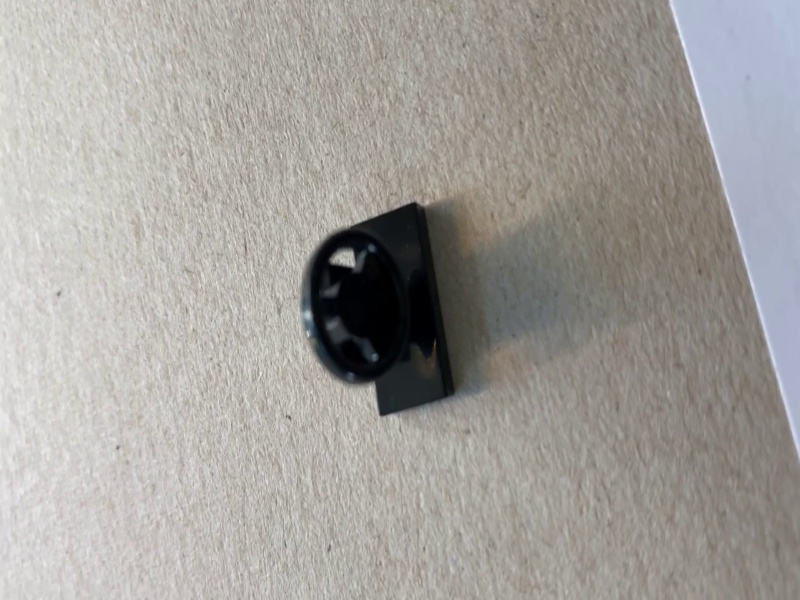steering wheel: (299, 203, 457, 417)
